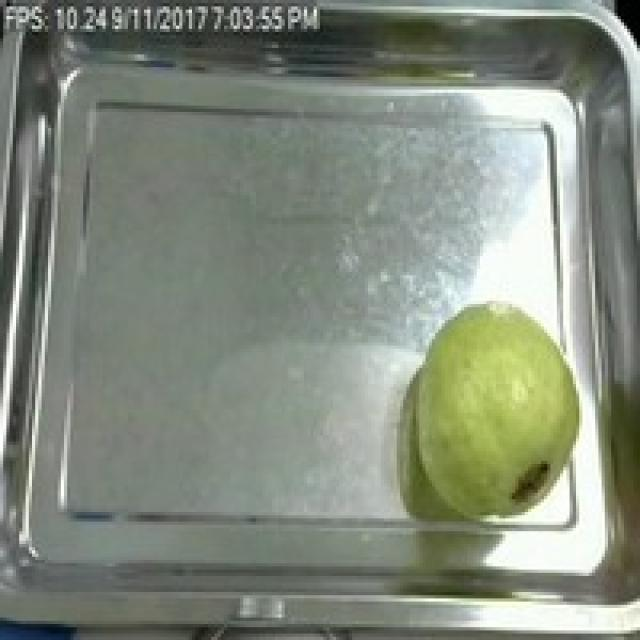Fruit: (397, 294, 605, 518)
